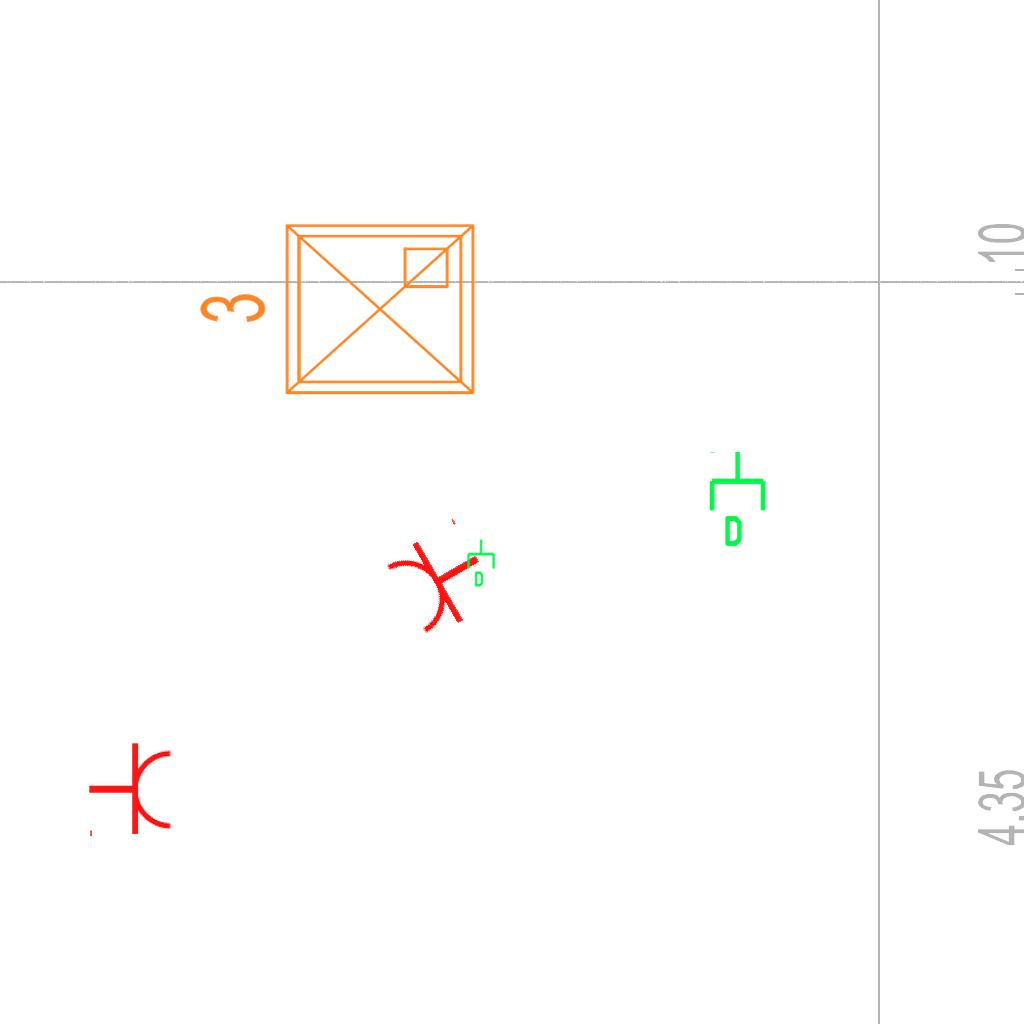Datenanschluss_einfach: (705, 449, 774, 549), (465, 538, 499, 588)
Einbaudownlights_LED_Konferenzraeume: (189, 209, 489, 417)
Schukosteckdose_einfach: (377, 512, 504, 644), (87, 741, 174, 841)
